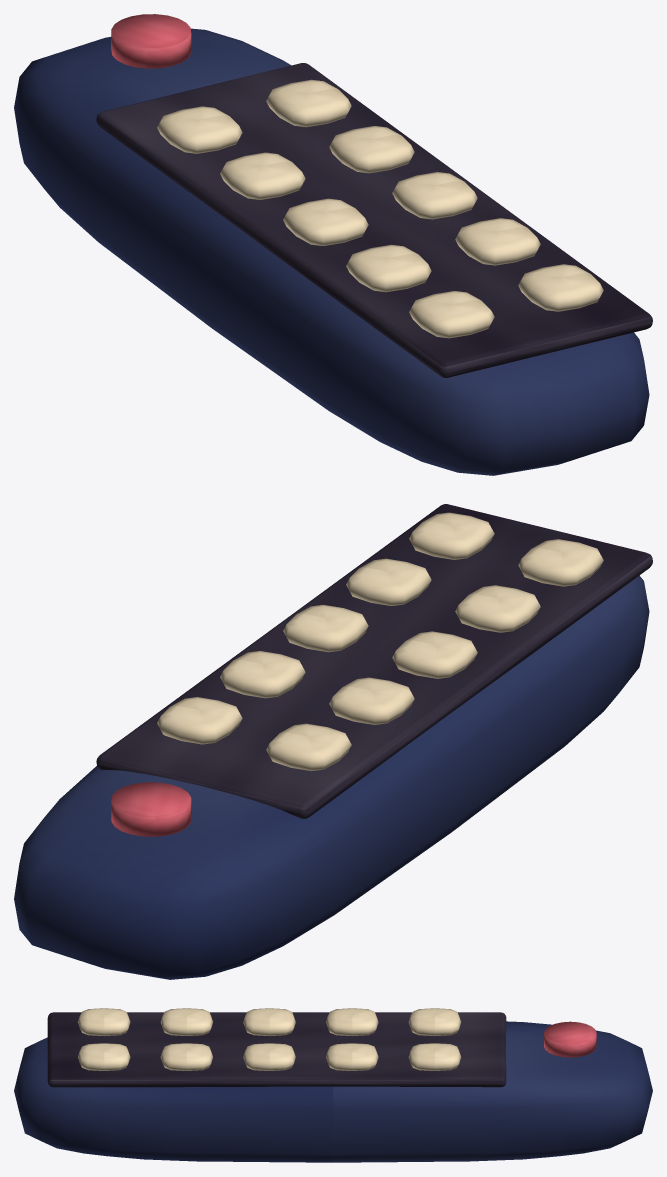
Rendered from V5_Remote.fbx.
The picture shows the model from 3 angles, top to bottom: view 1: azimuth 30°, elevation 25°; view 2: azimuth 150°, elevation 25°; view 3: azimuth 270°, elevation 25°; orthographic projection. The views are drawn at different scales.
Parts seen in each view (by area): view 1: V5_Remote; view 2: V5_Remote; view 3: V5_Remote.
Boxes of the visible parts, x1,y1,x2,y2 form: V5_Remote: (14, 14, 652, 475); V5_Remote: (14, 504, 652, 979); V5_Remote: (14, 1008, 652, 1162).
Bounding box in the file's own units: 0.052 × 0.03 × 0.17.
Materials: 1 (1 with a texture image).
